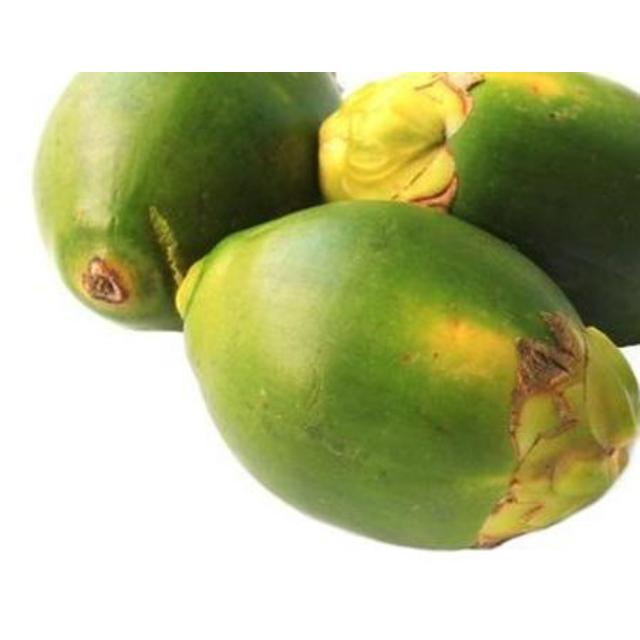good: (175, 200, 639, 551), (31, 72, 343, 334), (448, 72, 639, 346), (319, 72, 482, 213)
